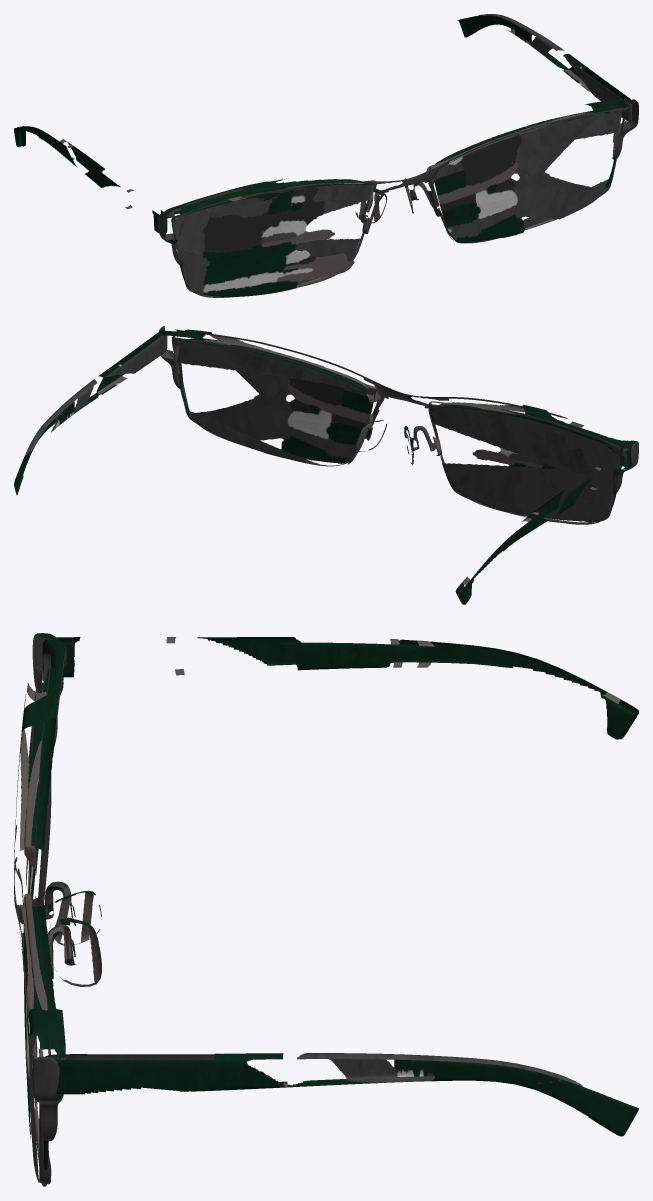
Rendered from glasses.fbx.
3 views of the same model, one above another, from view 1: azimuth 30°, elevation 25°; view 2: azimuth 150°, elevation 25°; view 3: azimuth 270°, elevation 25° (orthographic). The views are drawn at different scales.
Parts seen in each view (by area): view 1: Glass_BAKED; view 2: Glass_BAKED; view 3: Glass_BAKED.
Part boxes in pixels (x1,y1,x2,y2): Glass_BAKED: (14, 14, 638, 297); Glass_BAKED: (14, 326, 638, 604); Glass_BAKED: (14, 633, 638, 1186).
Size of the model in its own units: 432 by 95.46 by 269.
